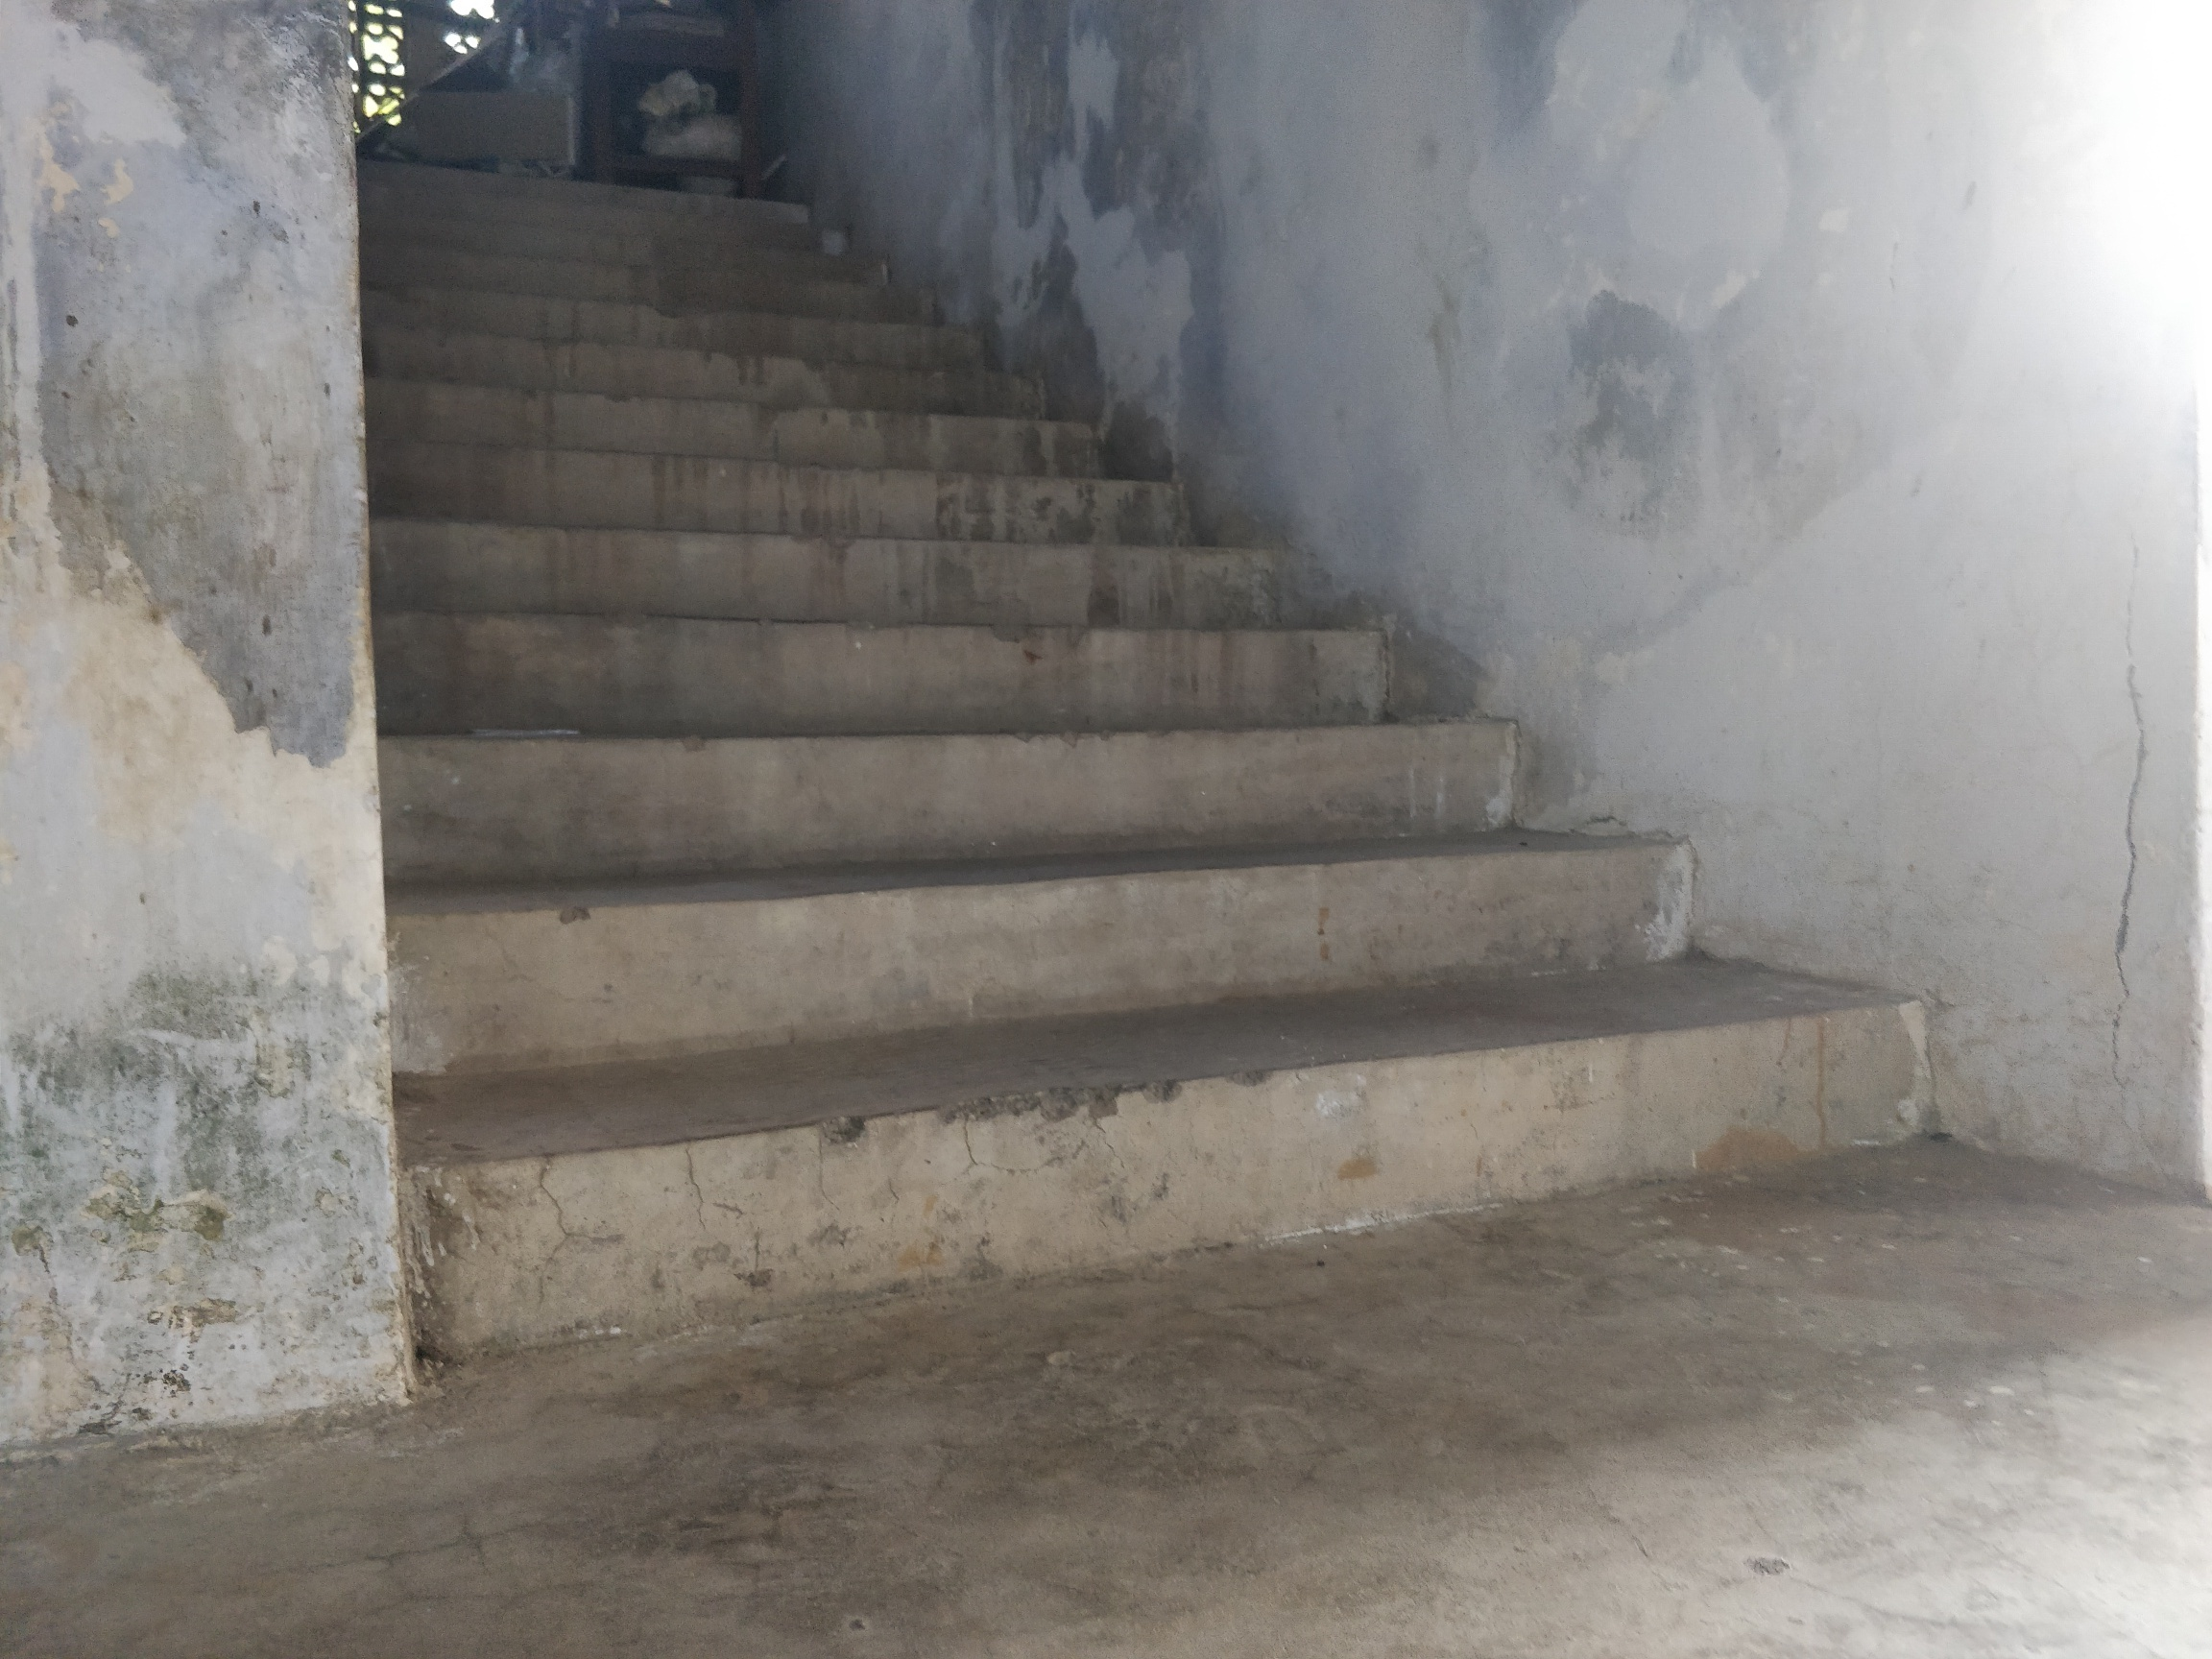stairs_up: (369, 129, 1902, 1222)
